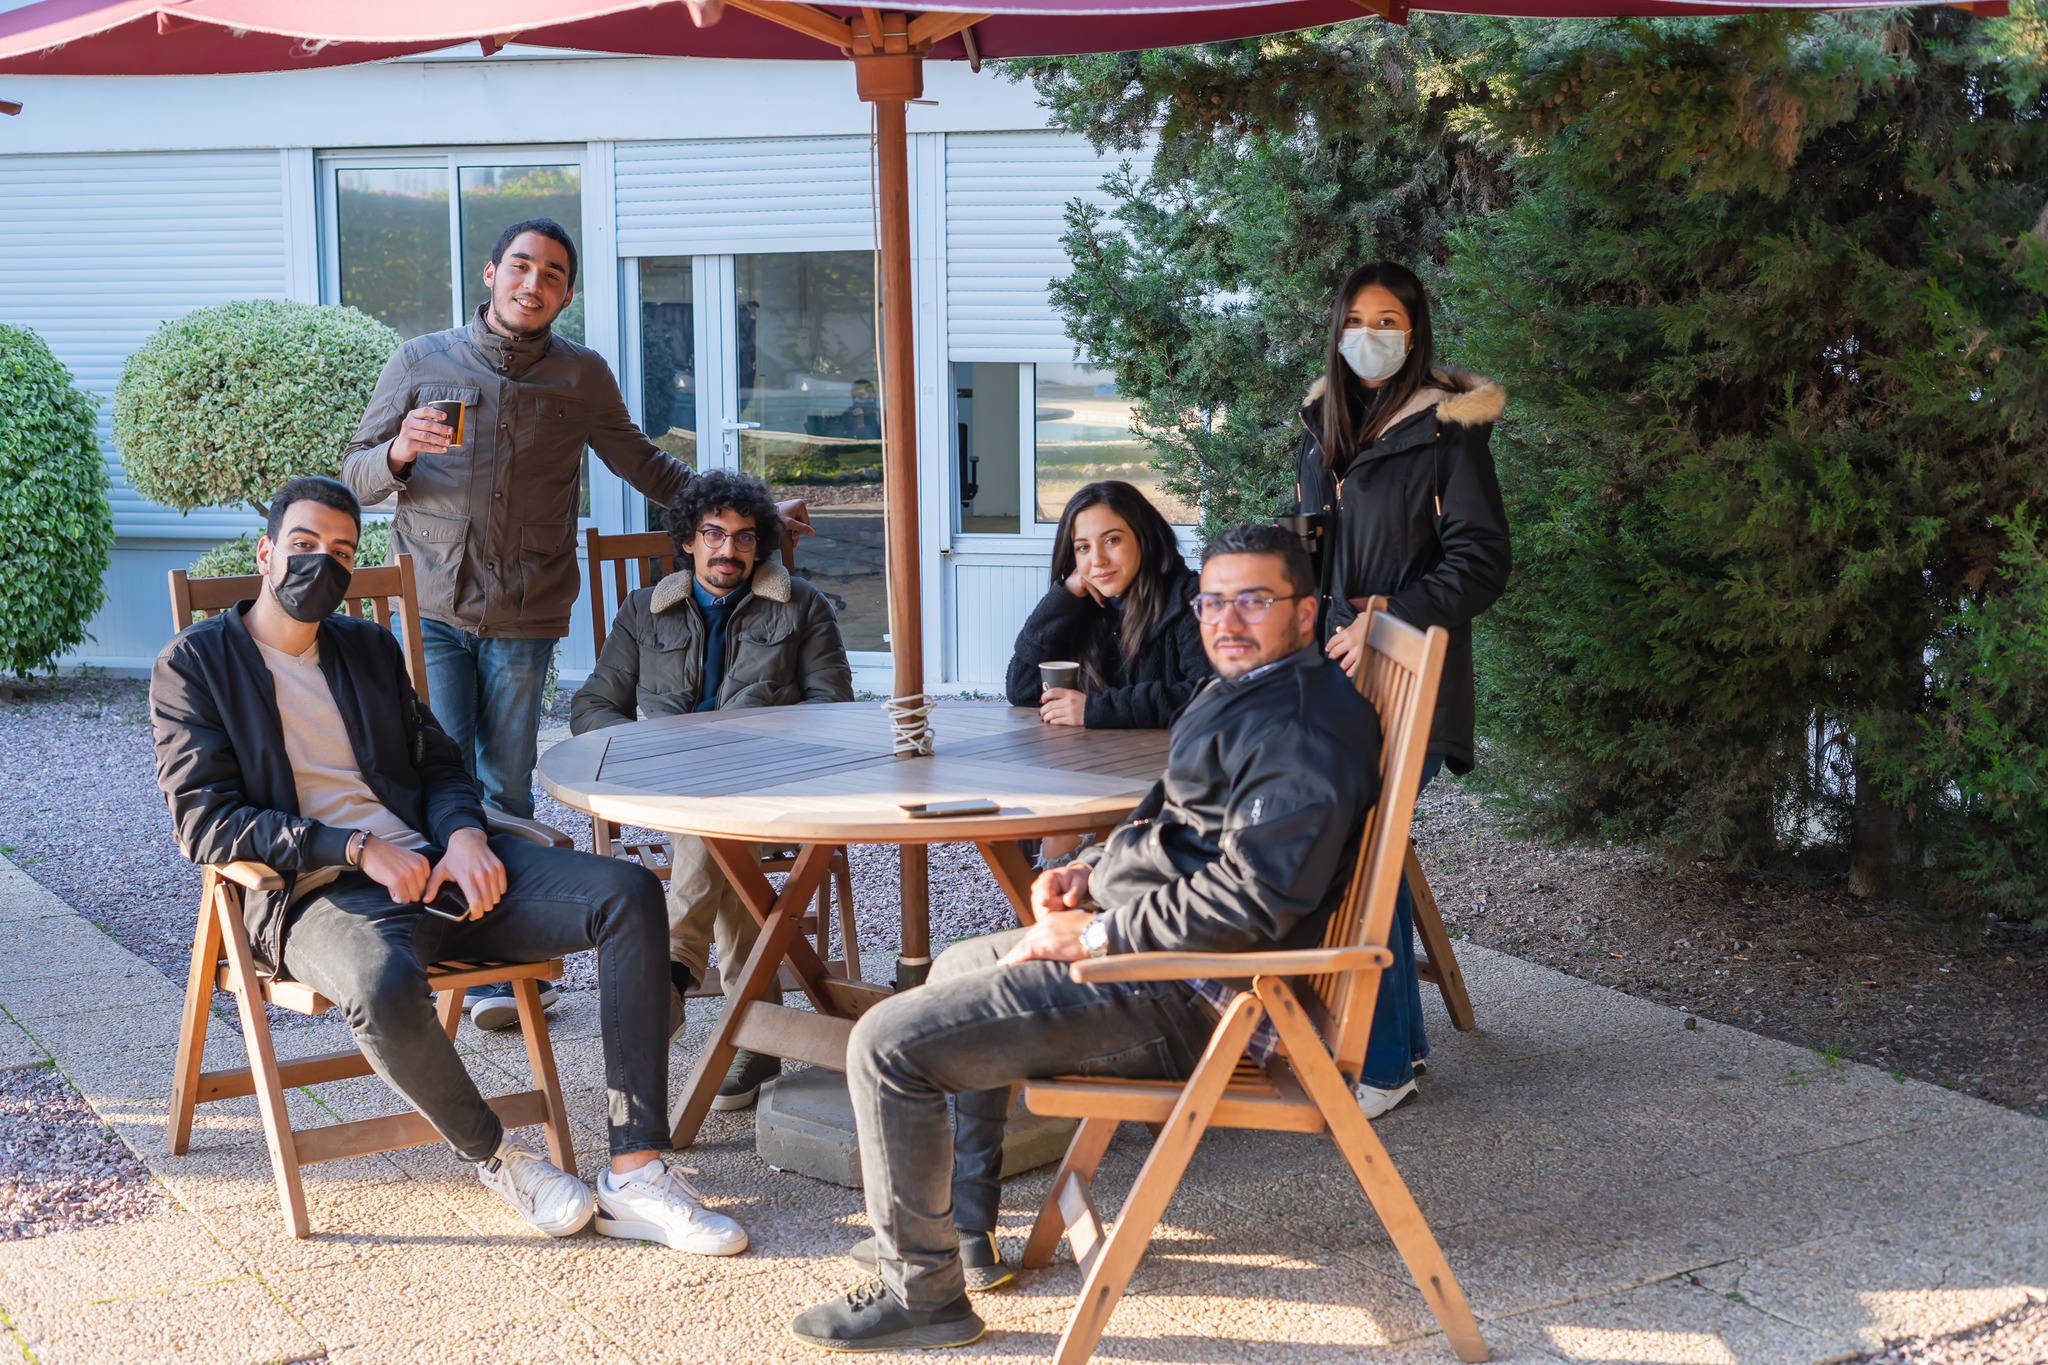without_mask: (1200, 586, 1286, 676), (503, 248, 564, 324), (1069, 526, 1137, 586), (697, 523, 758, 585)
